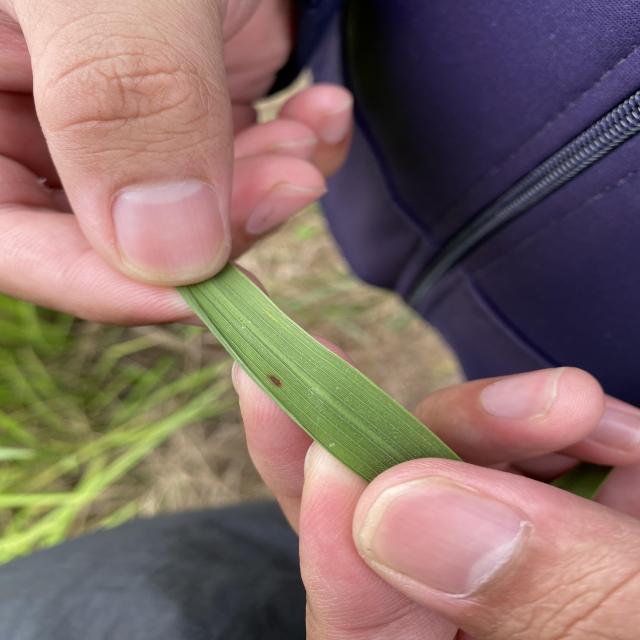Dom nau: (266, 374, 284, 388)
